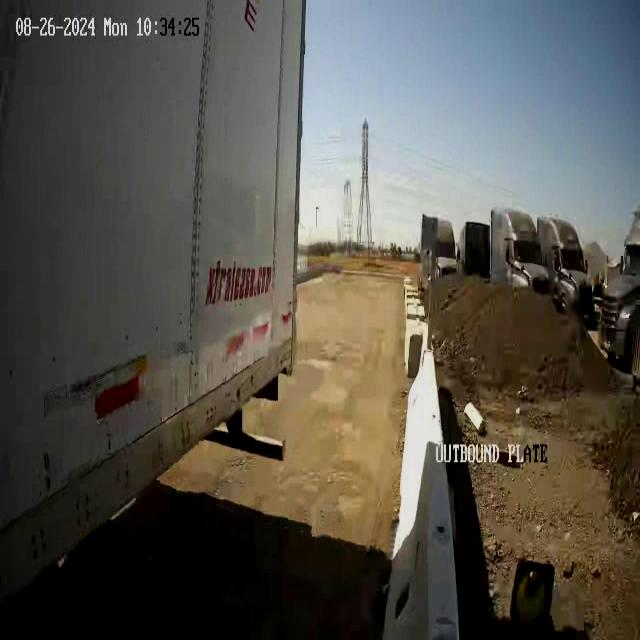TRUCK_CONTAINER: (1, 1, 307, 600)
